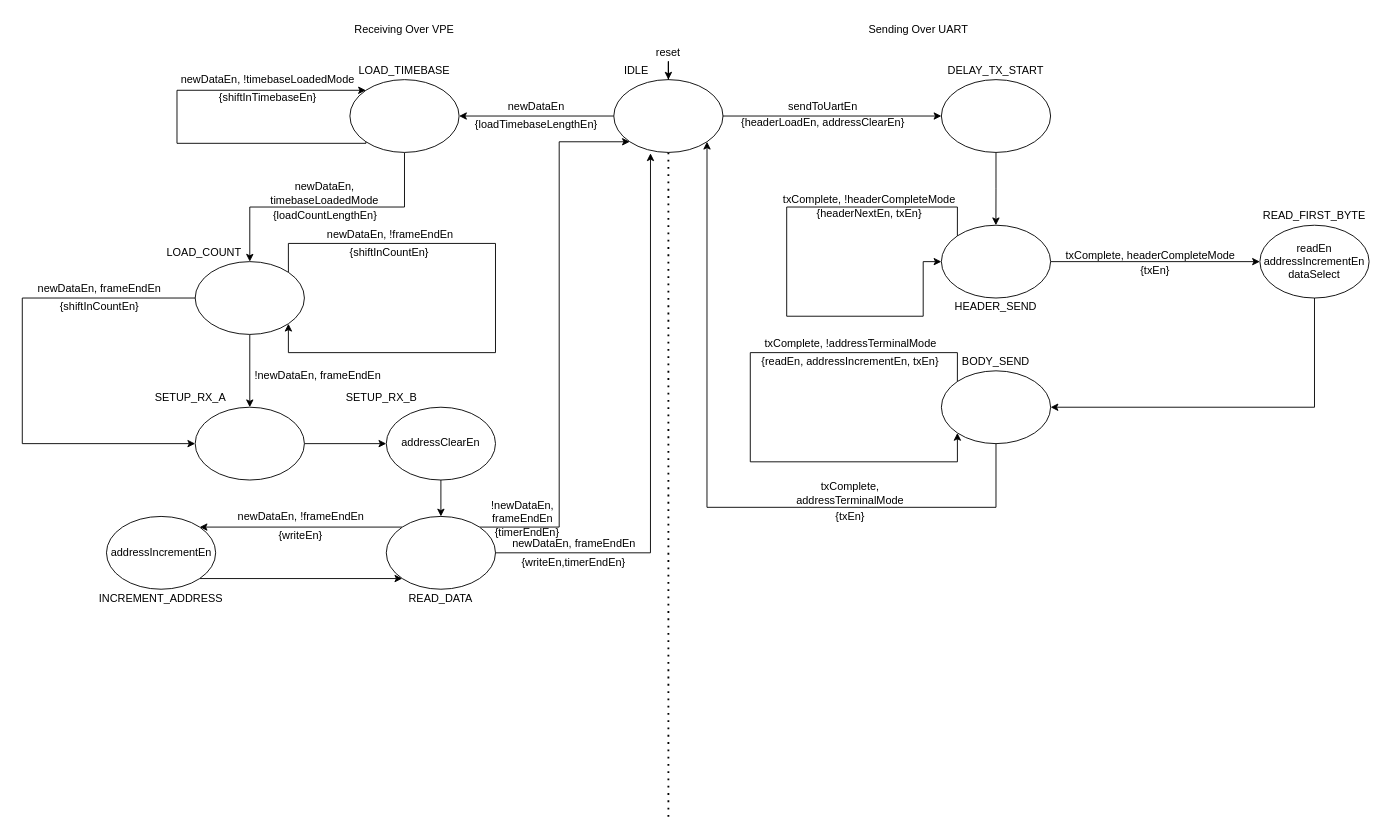
The diagram is 1385 pixels wide and 834 high, and some of its shapes have lost their labels. Here are the shapes that lost their labels. From the top down, the centre of each, then its label:
At point 995,407: "dataSelect".
At point 249,443: "timerStartEn".
